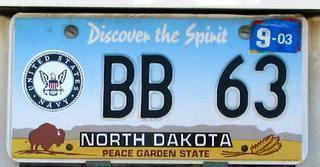placa de veiculo: (7, 10, 307, 166)
